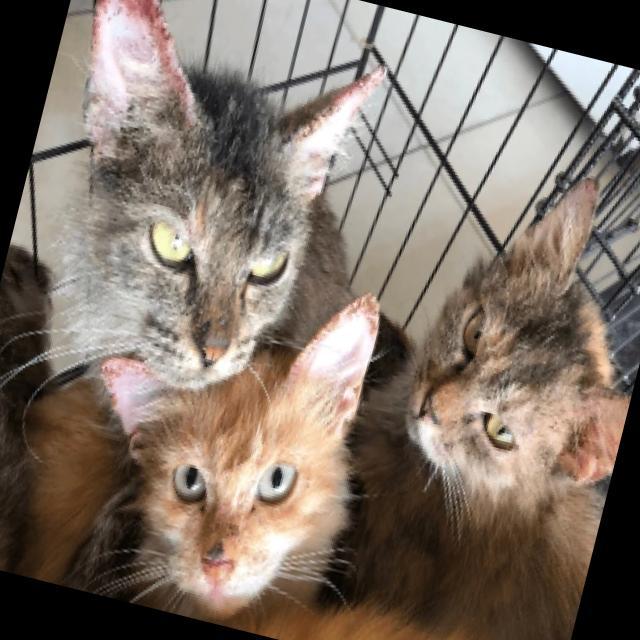Mange: (296, 68, 377, 139), (98, 357, 127, 407), (135, 0, 165, 39), (95, 0, 118, 39), (582, 170, 604, 190)
